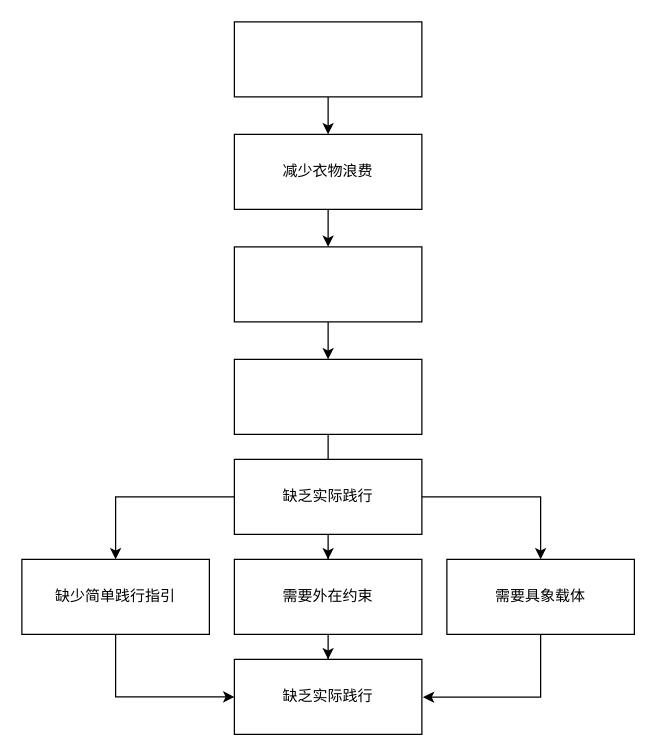
Image size: 656x756. Some labels were removed from this diagram. Each missing label, with the centre of its shape:
"人们衣物管理方式混乱" belongs at point 327,284.
"服装行业环保需求" belongs at point 327,59.
"核心概念：胶囊衣柜" belongs at point 327,396.
